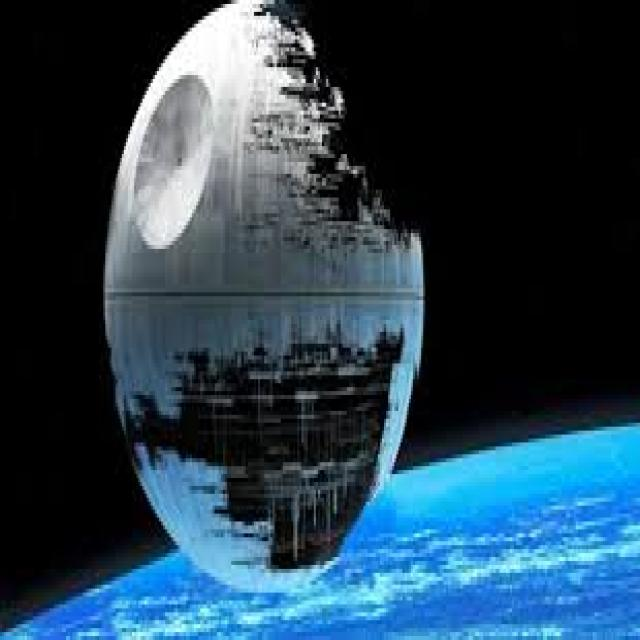death-stars: (105, 0, 423, 593)
